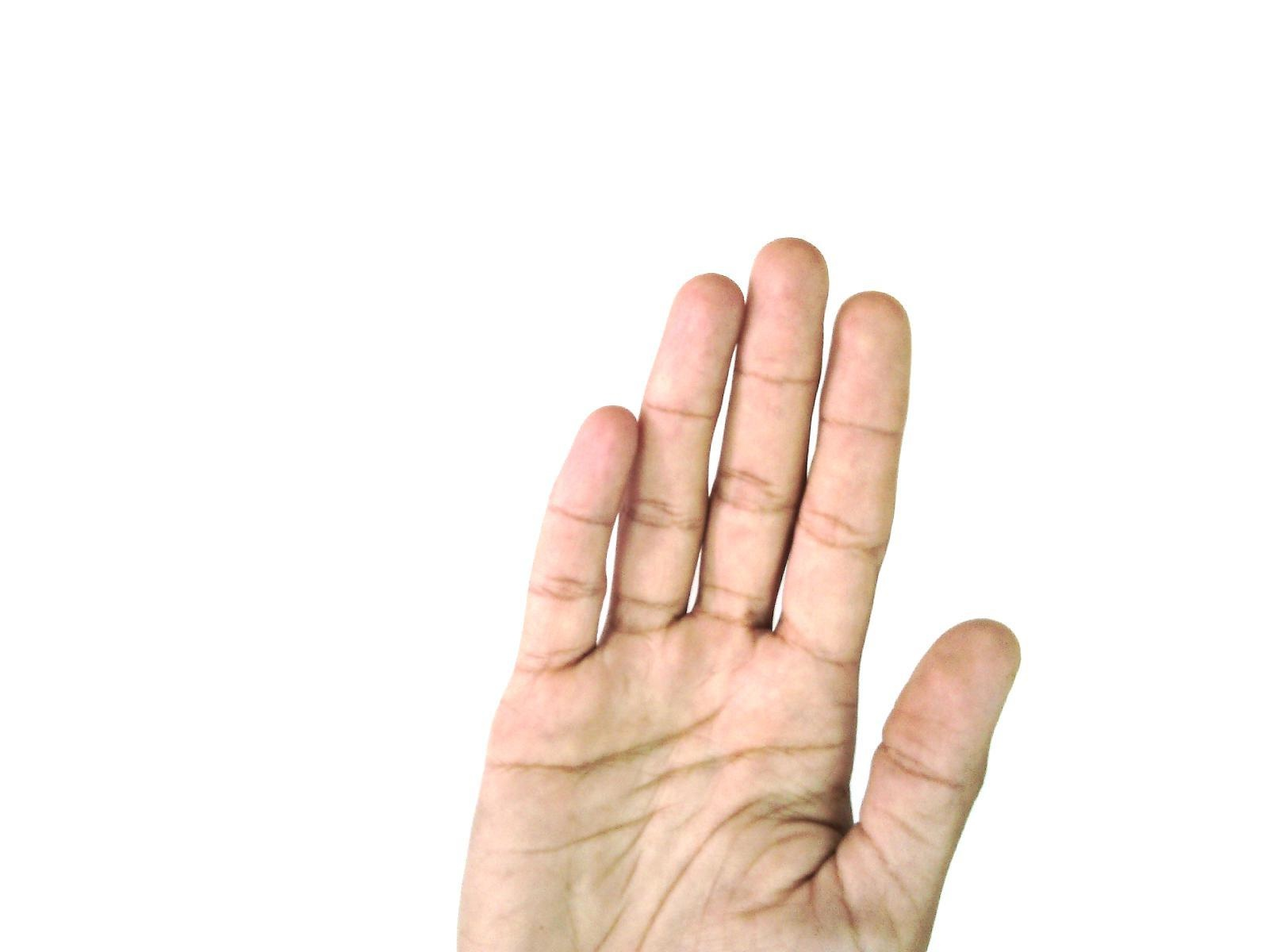open_palm: (453, 236, 1023, 952)
